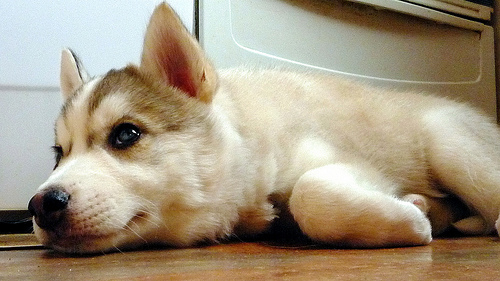dog: (28, 2, 499, 258)
